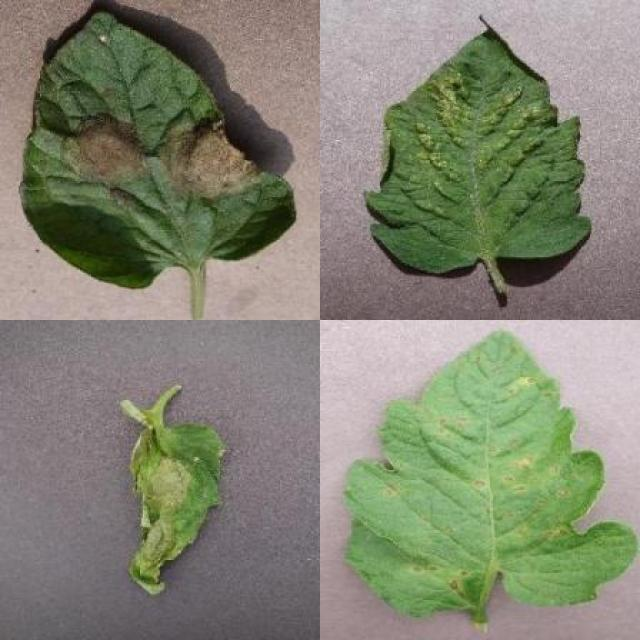Late Blight: (22, 9, 298, 291), (126, 423, 226, 600)
Septoria: (349, 329, 637, 617)
Spider Mites: (364, 20, 592, 274)
